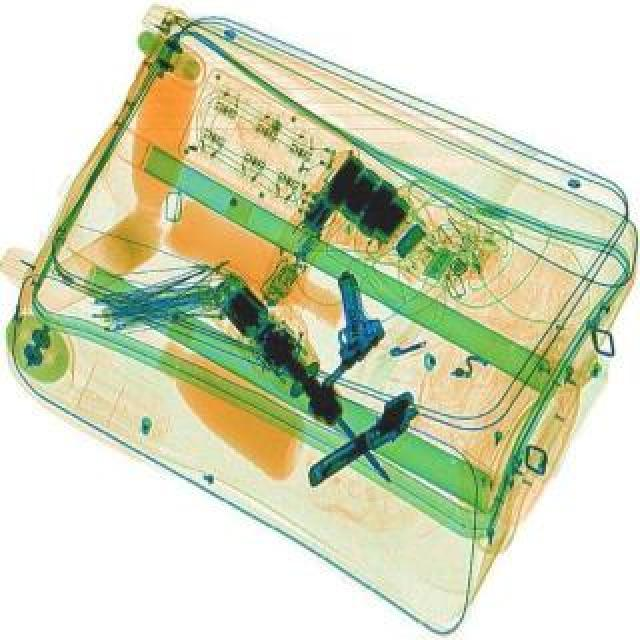gun: (270, 272, 406, 396), (290, 388, 432, 496)
